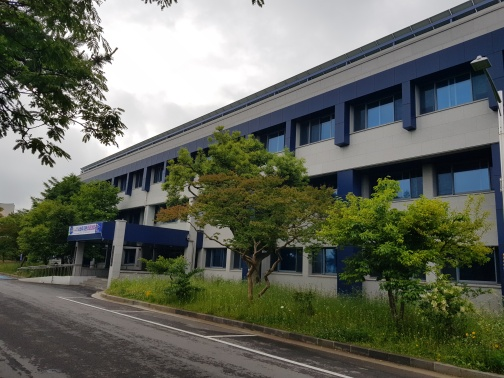College of Social Sciences: (68, 60, 504, 340)
